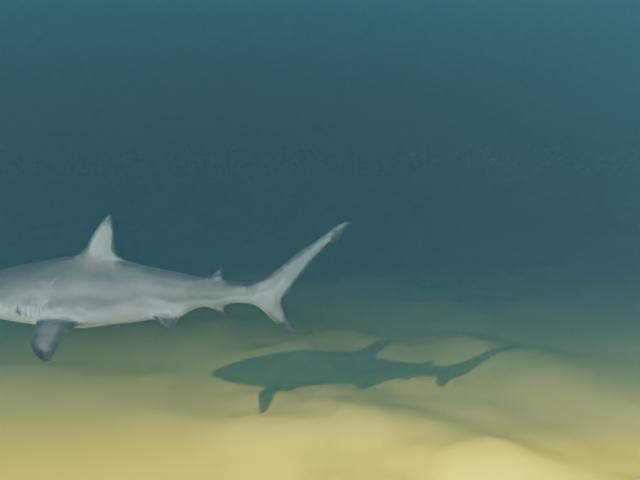Carribean Shark.001: (0, 215, 349, 363)
